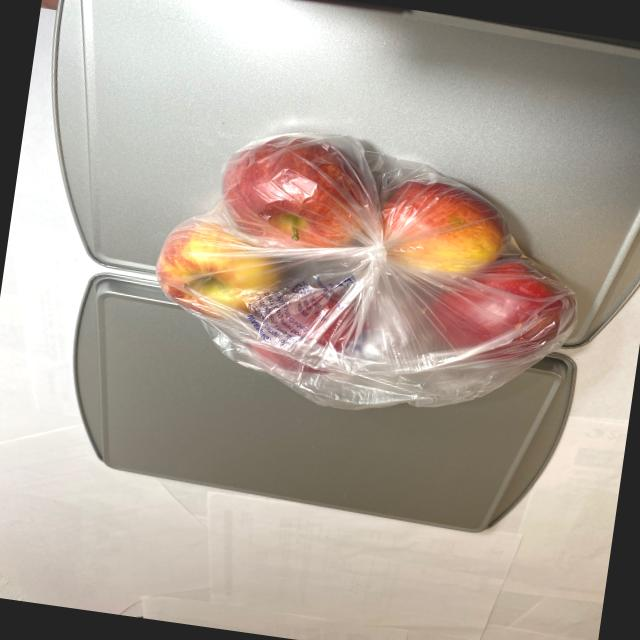apple: (143, 112, 594, 418)
